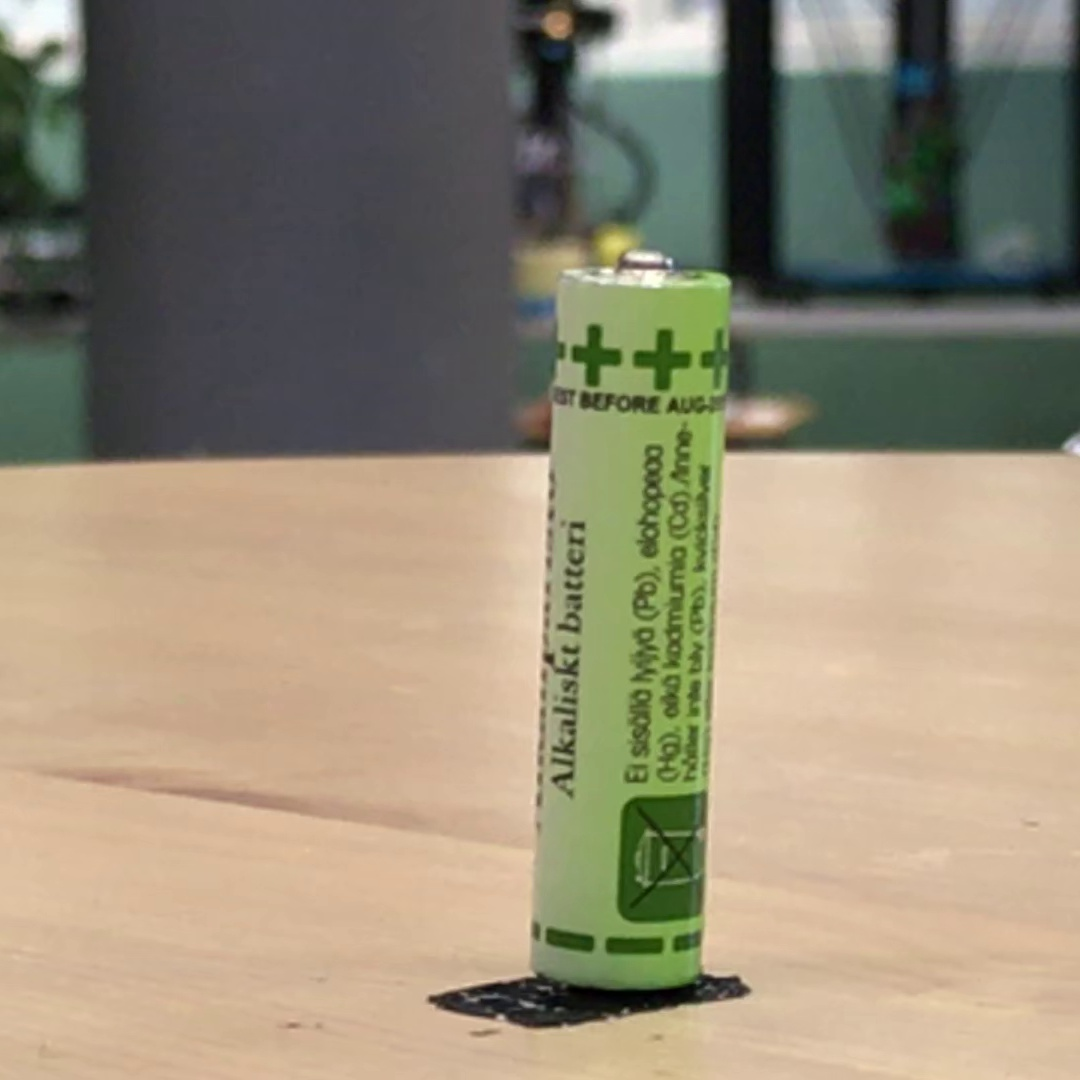keyword: (541, 747, 583, 808)
